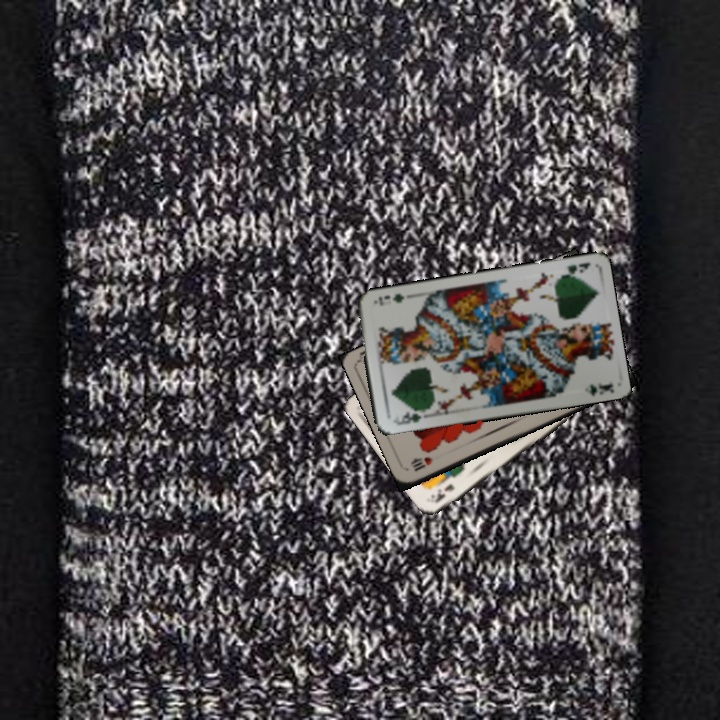EK: (431, 480, 457, 506)
GK: (555, 258, 593, 281), (389, 406, 427, 428)
H10: (407, 453, 435, 474)
